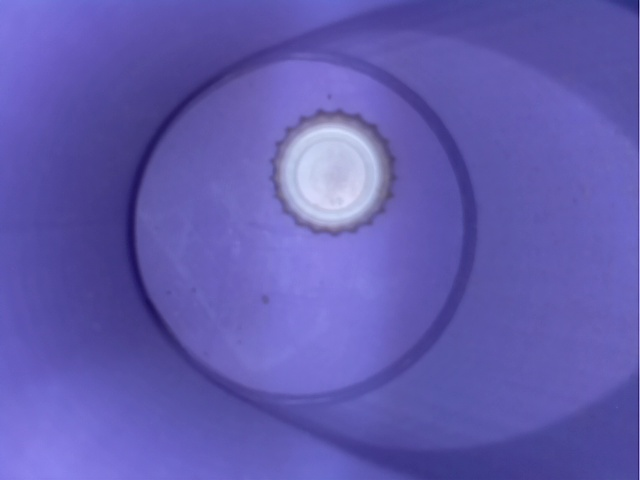capsule: (254, 97, 424, 253)
